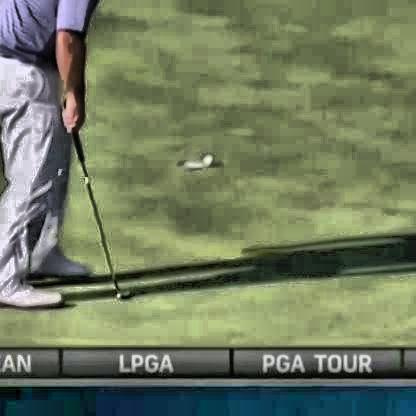golfball: (201, 152, 212, 163)
